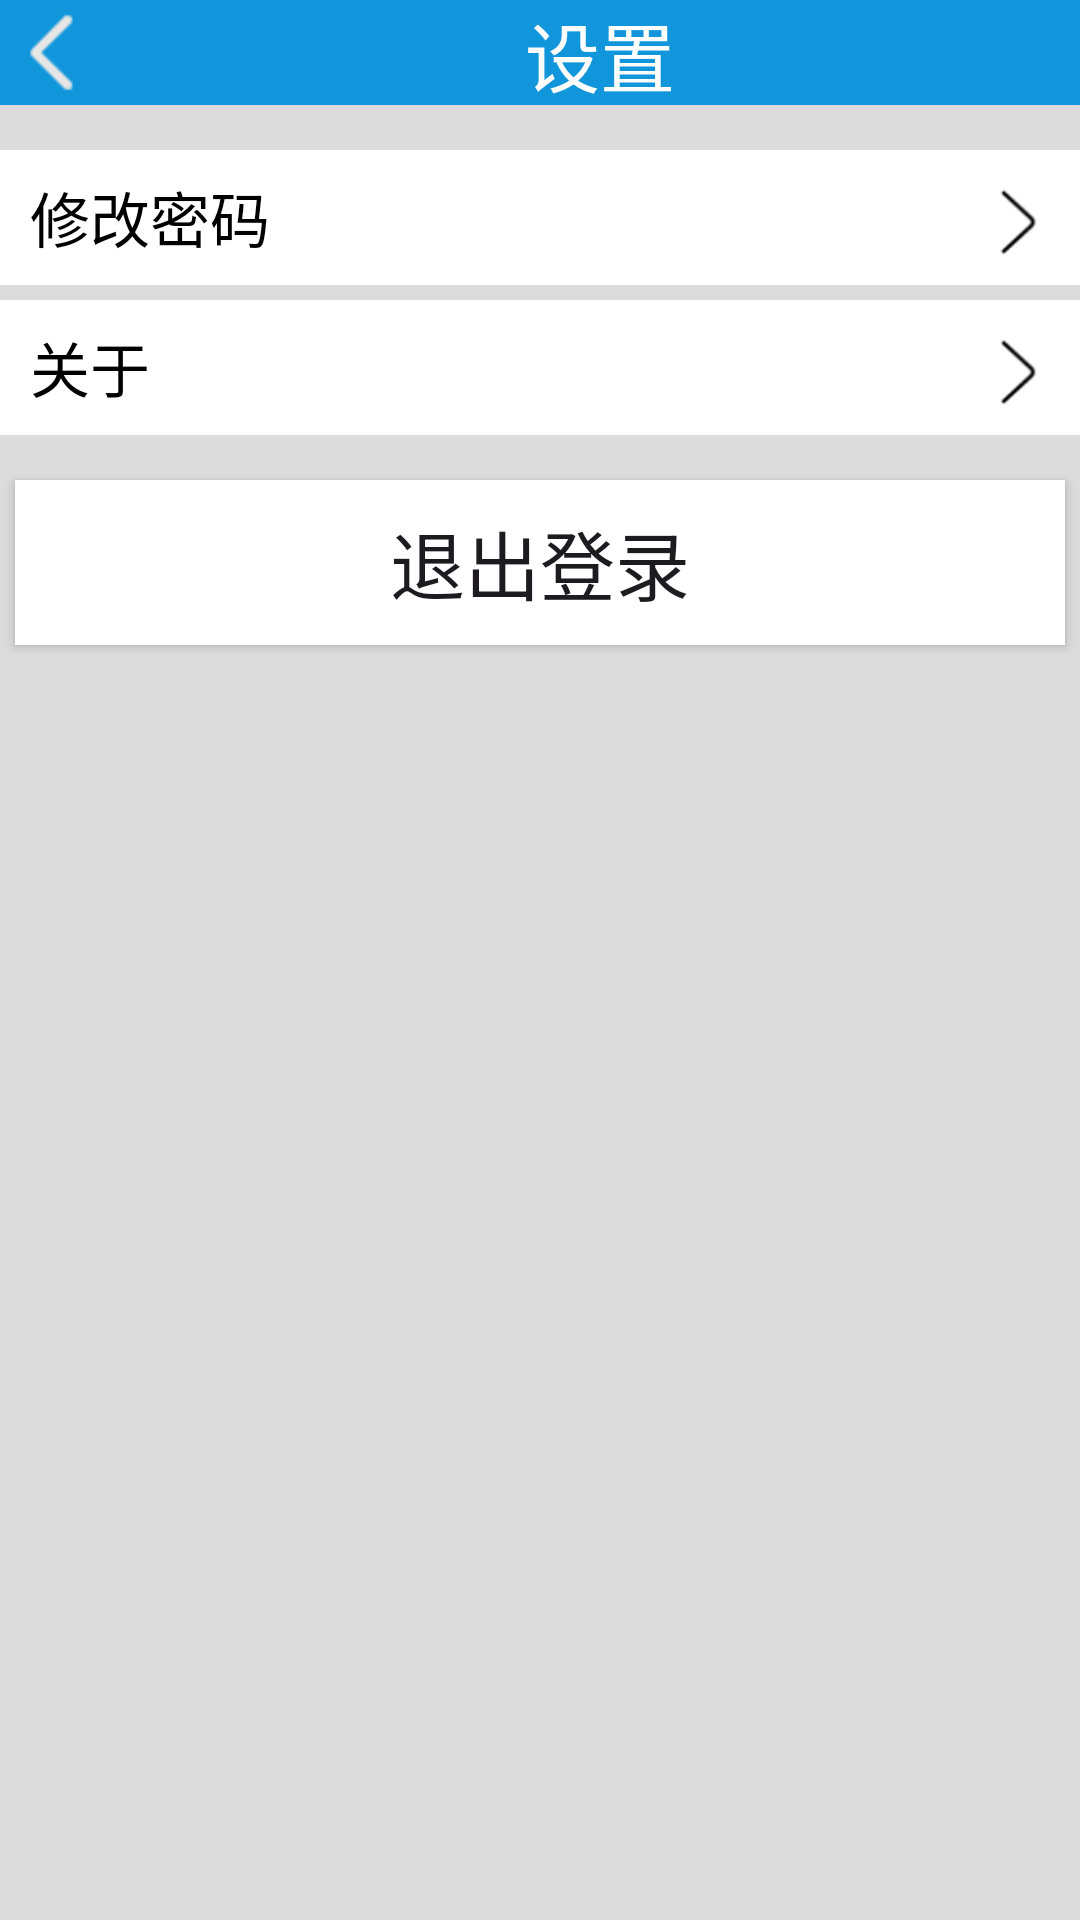

Icon click points for this 1080×1920 phone screenshot, format [x,y]:
back: [51,52]
